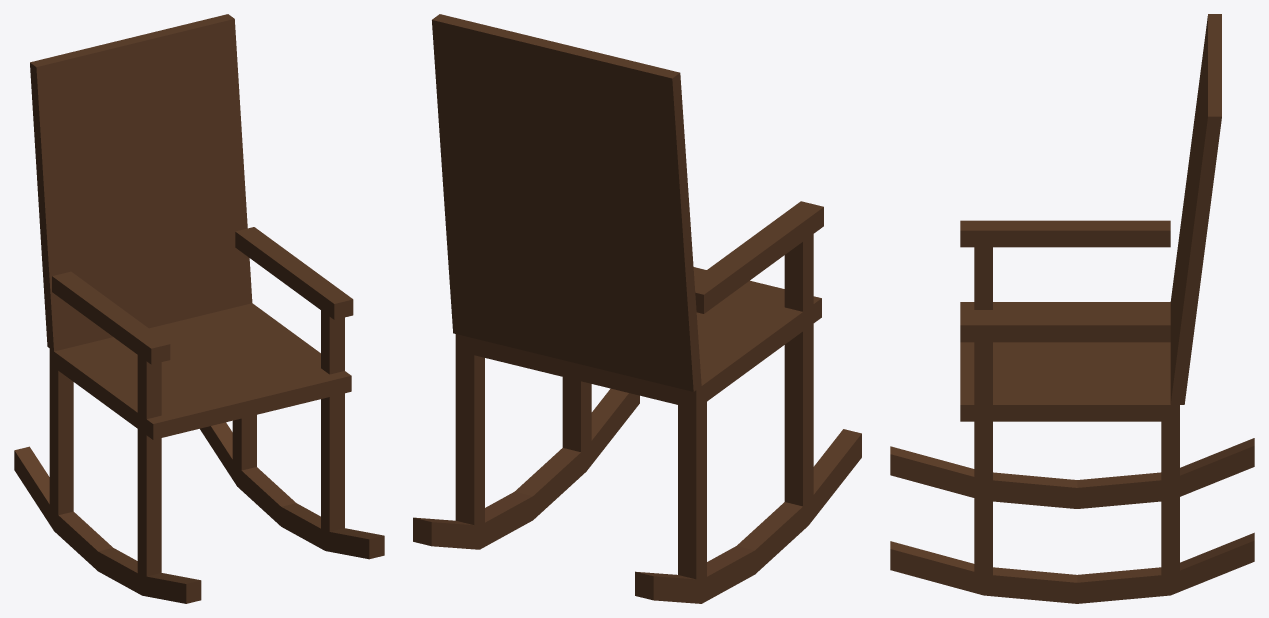
Rendered from rocking_chair.glb.
3 renders of one model, left to right at view 1: azimuth 30°, elevation 25°; view 2: azimuth 150°, elevation 25°; view 3: azimuth 270°, elevation 25°, orthographic. The views are drawn at different scales.
Visible parts, largest first — view 1: rocking_chair; view 2: rocking_chair; view 3: rocking_chair.
Boxes of the visible parts, left/top/right/bottom form: rocking_chair: left=14, top=14, right=384, bottom=603; rocking_chair: left=413, top=14, right=861, bottom=603; rocking_chair: left=890, top=14, right=1254, bottom=603.
Size of the model in its own units: 0.53 by 1.15 by 0.78.
Materials: 1 (1 with a texture image).
